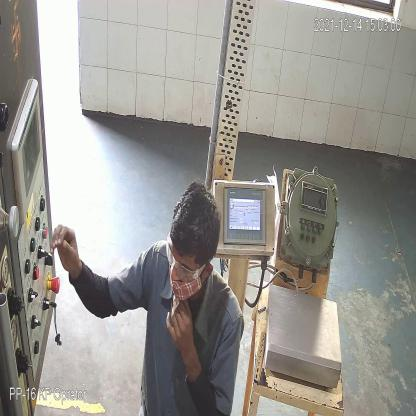goggles: (166, 244, 206, 284)
